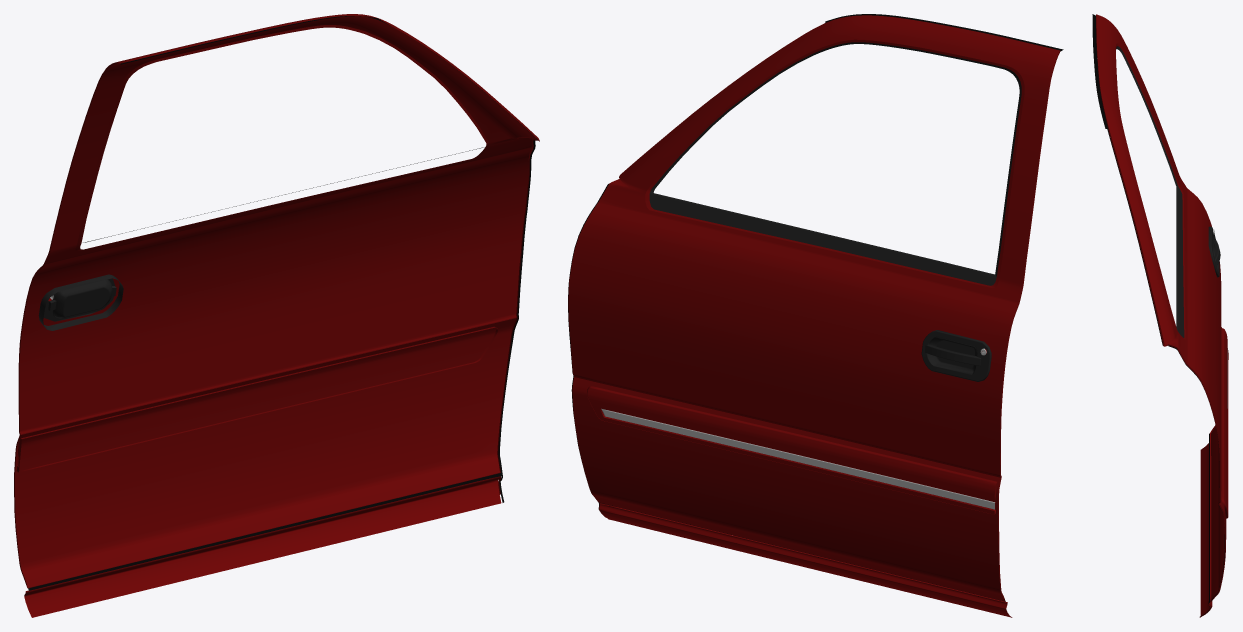
3 renders of one model, left to right at view 1: azimuth 30°, elevation 25°; view 2: azimuth 150°, elevation 25°; view 3: azimuth 270°, elevation 25°, orthographic. The views are drawn at different scales.
Parts seen in each view (by area): view 1: U805_4A_261B_L_U805_4A_261B_L_4_DaS, U805_4A_261B_L_U805_4A_261B_L_4_DaS_E, U805_4A_261B_L_1_D_U805_4A_261B_L, U805_4A_261B_L_U805_4A_261B_L_6_D, U805_4A_261B_L_U805_4A_261B_L_2_DaS_E; view 2: U805_4A_261B_L_U805_4A_261B_L_4_DaS, U805_4A_261B_L_U805_4A_261B_L_2_DaS, U805_4A_261B_L_U805_4A_261B_L_5_D, U805_4A_261B_L_U805_4A_261B_L_4_DaS_E, U805_4A_261B_L_U805_4A_261B_L_3_DaS, U805_4A_261B_L_1_D_U805_4A_261B_L, U805_4A_261B_L_U805_4A_261B_L_2_DaS_E, U805_4A_261B_L_U805_4A_261B_L_6_D; view 3: U805_4A_261B_L_U805_4A_261B_L_4_DaS, U805_4A_261B_L_U805_4A_261B_L_4_DaS_E, U805_4A_261B_L_U805_4A_261B_L_5_D, U805_4A_261B_L_U805_4A_261B_L_6_D, U805_4A_261B_L_U805_4A_261B_L_2_DaS, U805_4A_261B_L_U805_4A_261B_L_2_DaS_E, U805_4A_261B_L_1_D_U805_4A_261B_L.
Part boxes in pixels (x1,y1,x2,y2): U805_4A_261B_L_U805_4A_261B_L_4_DaS: [15, 16, 535, 617]; U805_4A_261B_L_U805_4A_261B_L_4_DaS_E: [14, 14, 539, 591]; U805_4A_261B_L_1_D_U805_4A_261B_L: [38, 274, 123, 330]; U805_4A_261B_L_U805_4A_261B_L_6_D: [28, 16, 538, 590]; U805_4A_261B_L_U805_4A_261B_L_2_DaS_E: [16, 326, 497, 472]; U805_4A_261B_L_U805_4A_261B_L_4_DaS: [568, 15, 1059, 617]; U805_4A_261B_L_U805_4A_261B_L_2_DaS: [587, 386, 996, 514]; U805_4A_261B_L_U805_4A_261B_L_5_D: [649, 42, 1021, 285]; U805_4A_261B_L_U805_4A_261B_L_4_DaS_E: [574, 39, 1060, 602]; U805_4A_261B_L_U805_4A_261B_L_3_DaS: [601, 408, 995, 509]; U805_4A_261B_L_1_D_U805_4A_261B_L: [921, 330, 991, 381]; U805_4A_261B_L_U805_4A_261B_L_2_DaS_E: [588, 386, 997, 514]; U805_4A_261B_L_U805_4A_261B_L_6_D: [568, 14, 1063, 601]; U805_4A_261B_L_U805_4A_261B_L_4_DaS: [1096, 14, 1226, 617]; U805_4A_261B_L_U805_4A_261B_L_4_DaS_E: [1096, 15, 1226, 613]; U805_4A_261B_L_U805_4A_261B_L_5_D: [1116, 46, 1184, 337]; U805_4A_261B_L_U805_4A_261B_L_6_D: [1092, 14, 1224, 616]; U805_4A_261B_L_U805_4A_261B_L_2_DaS: [1223, 328, 1228, 517]; U805_4A_261B_L_U805_4A_261B_L_2_DaS_E: [1221, 328, 1228, 518]; U805_4A_261B_L_1_D_U805_4A_261B_L: [1208, 226, 1220, 277].
Bounding box in the file's own units: 114 × 130 × 36.2.
